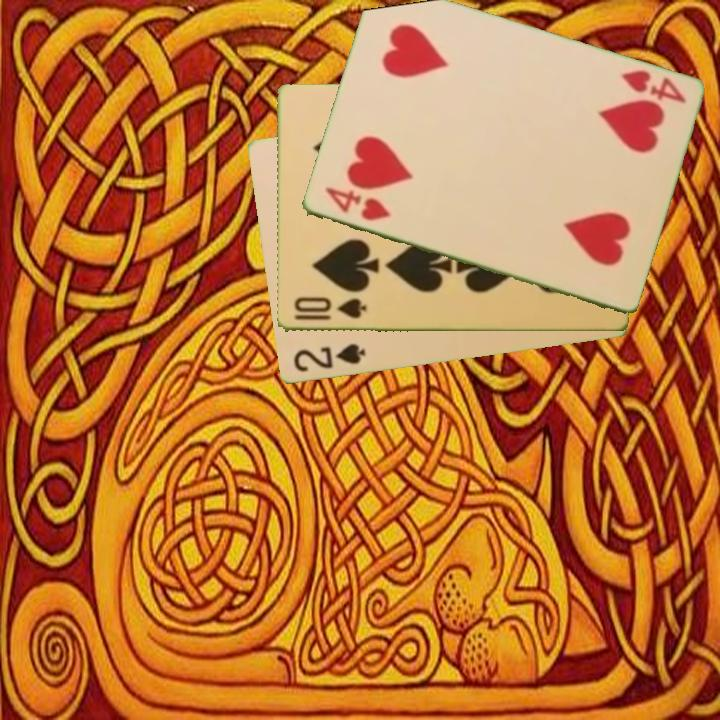10s: (290, 294, 369, 323)
2s: (289, 340, 368, 376)
4h: (321, 184, 393, 224), (617, 67, 689, 107)
